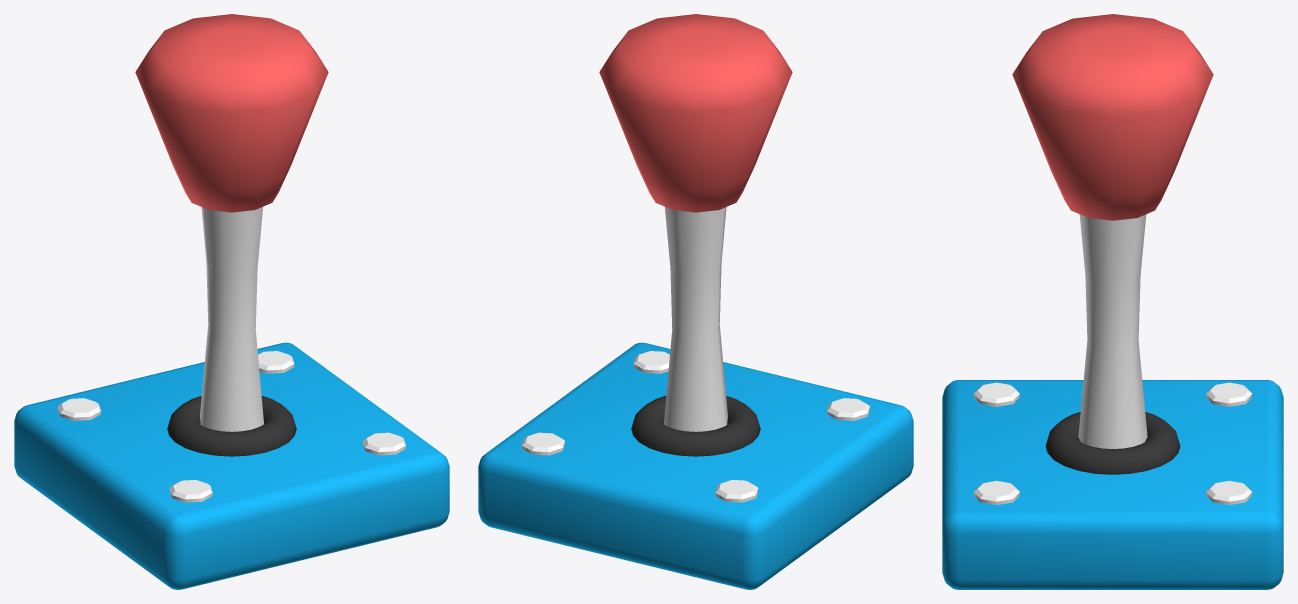
Rendered from maybe_a_jiggly_fiddly_joystick.glb.
3 renders of one model, left to right at view 1: azimuth 30°, elevation 25°; view 2: azimuth 150°, elevation 25°; view 3: azimuth 270°, elevation 25°, orthographic. The views are drawn at different scales.
Visible parts, largest first — view 1: Base, JoystickBobble, JoystickPole, Collar, Bolt; view 2: Base, JoystickBobble, JoystickPole, Collar, Bolt; view 3: Base, JoystickBobble, JoystickPole, Collar, Bolt.
Boxes of the visible parts, x1=… form: Base: x1=14, y1=342, x2=449, y2=589; JoystickBobble: x1=135, y1=14, x2=328, y2=212; JoystickPole: x1=200, y1=207, x2=263, y2=431; Collar: x1=167, y1=396, x2=296, y2=456; Bolt: x1=58, y1=351, x2=405, y2=502; Base: x1=478, y1=342, x2=913, y2=589; JoystickBobble: x1=599, y1=14, x2=792, y2=212; JoystickPole: x1=664, y1=207, x2=727, y2=431; Collar: x1=631, y1=396, x2=760, y2=456; Bolt: x1=522, y1=351, x2=869, y2=502; Base: x1=942, y1=380, x2=1283, y2=589; JoystickBobble: x1=1012, y1=14, x2=1213, y2=220; JoystickPole: x1=1078, y1=214, x2=1147, y2=448; Collar: x1=1045, y1=412, x2=1180, y2=474; Bolt: x1=973, y1=382, x2=1252, y2=505.
Bounding box in the file's own units: 0.5112 × 0.7959 × 0.5112.
